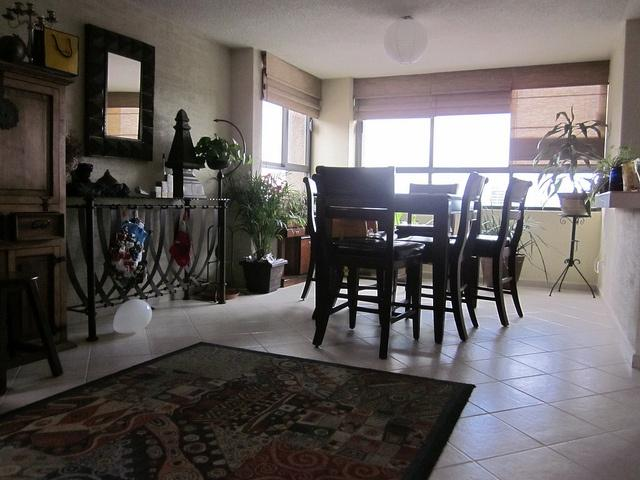Kursi: (311, 164, 425, 358), (470, 176, 532, 327)
